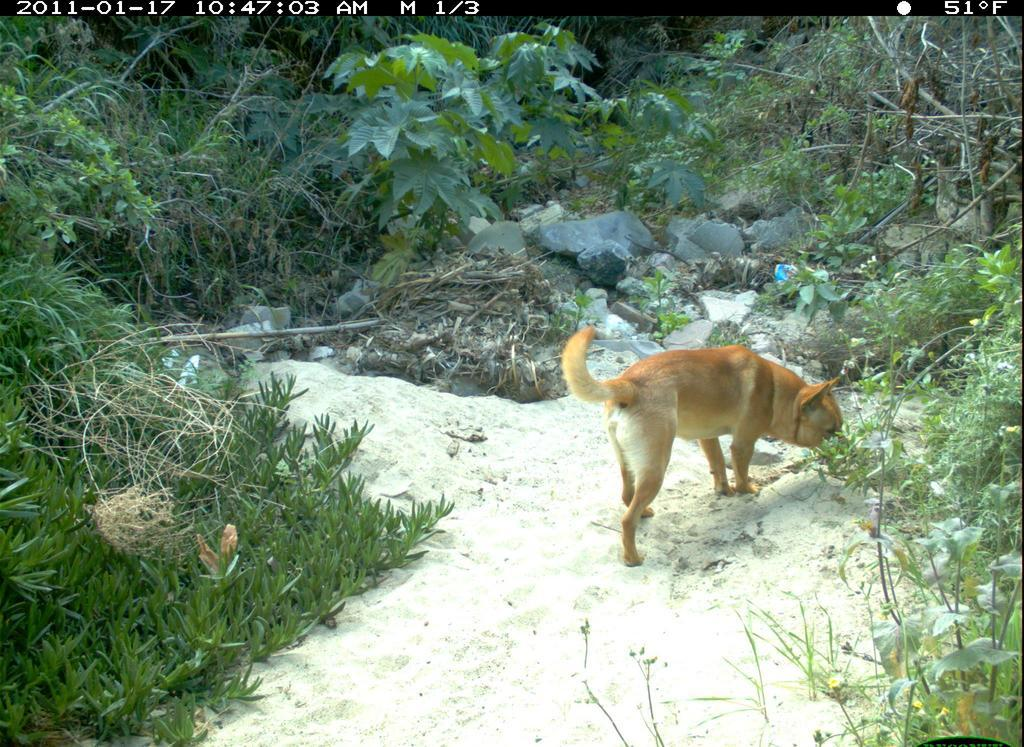dog: (556, 313, 872, 579)
